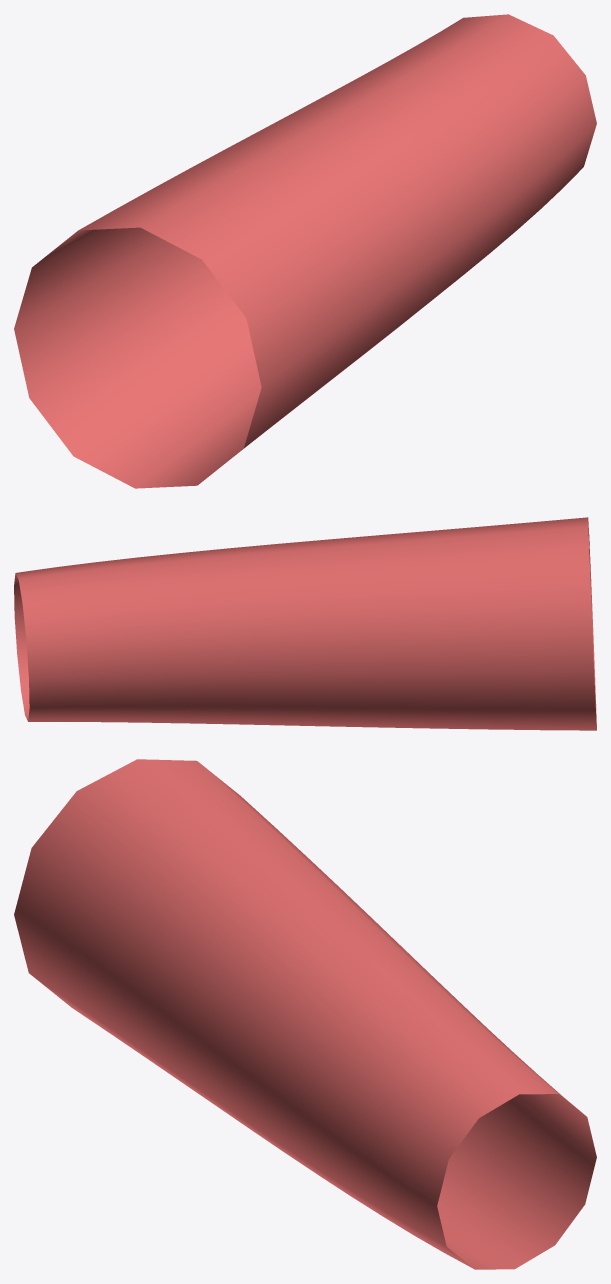
File: Left_renal_artery.glb
The picture shows the model from 3 angles, top to bottom: view 1: azimuth 30°, elevation 25°; view 2: azimuth 150°, elevation 25°; view 3: azimuth 270°, elevation 25°; orthographic projection. The views are drawn at different scales.
Visible parts, largest first — view 1: Left_renal_artery_BezierCurve.447; view 2: Left_renal_artery_BezierCurve.447; view 3: Left_renal_artery_BezierCurve.447.
Boxes of the visible parts, left/top/right/bottom form: Left_renal_artery_BezierCurve.447: left=14, top=14, right=596, bottom=488; Left_renal_artery_BezierCurve.447: left=14, top=517, right=596, bottom=730; Left_renal_artery_BezierCurve.447: left=14, top=759, right=596, bottom=1269.
Bounding box in the file's own units: 0.0275 × 0.00999 × 0.0208.
